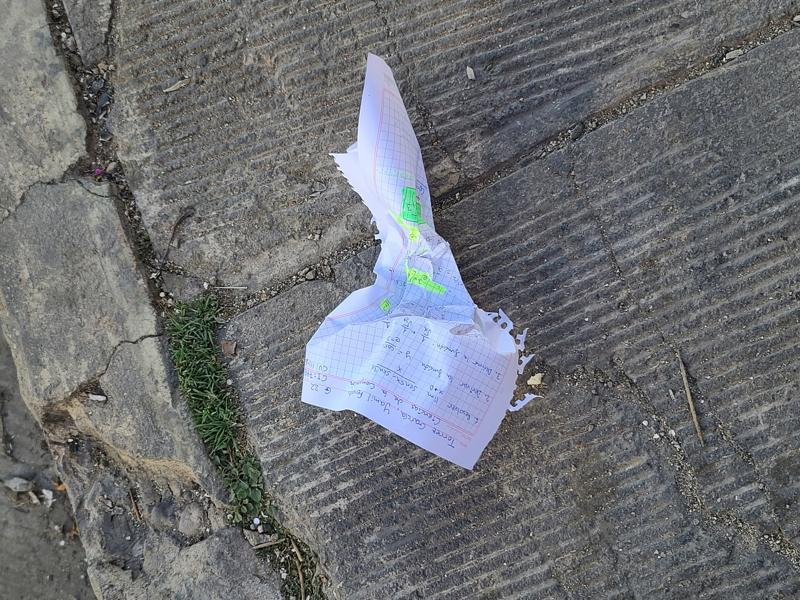papel: (302, 54, 520, 471)
